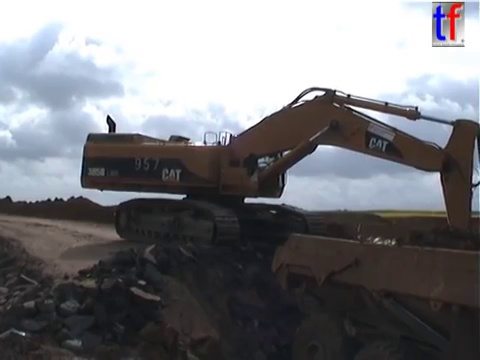excavator: (77, 84, 479, 284)
truck: (267, 213, 480, 360)
